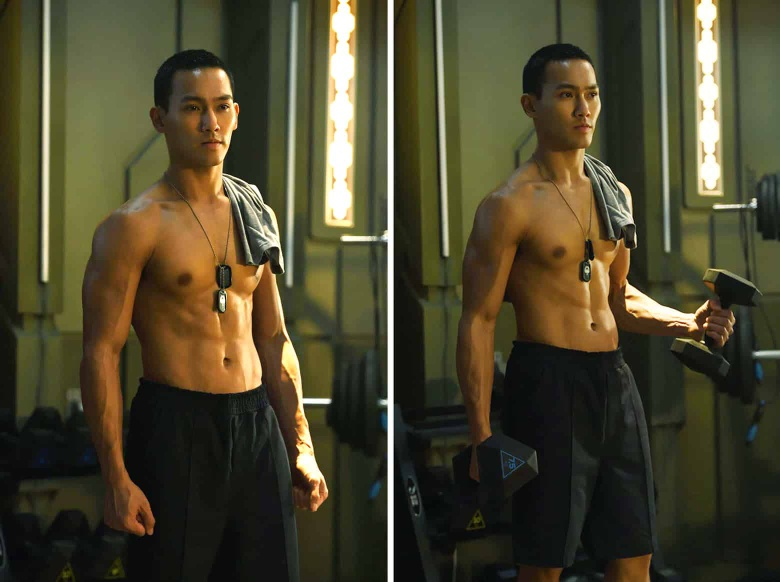male: (147, 47, 250, 172), (514, 34, 609, 159)
